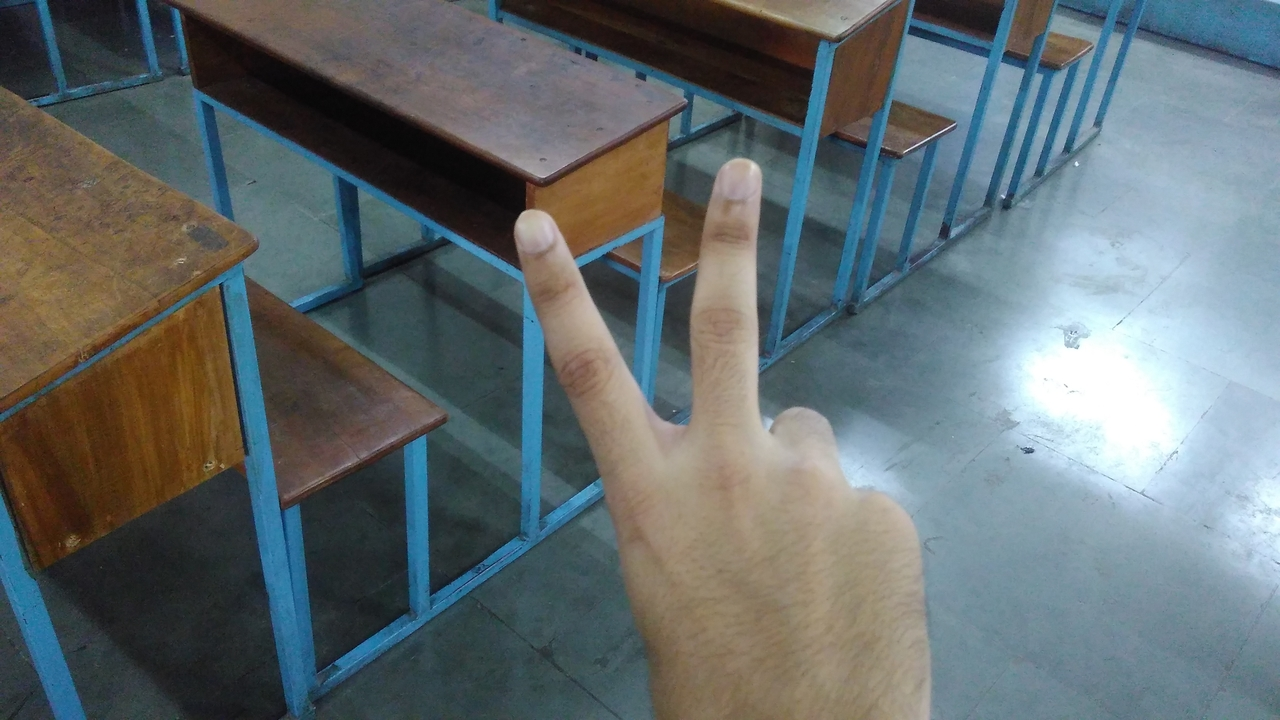fingertip: (502, 200, 572, 272), (704, 150, 774, 212)
